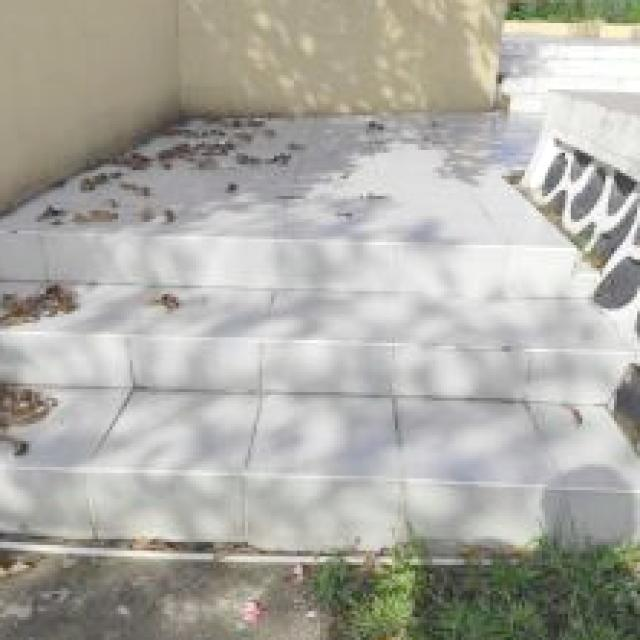upstair: (1, 226, 640, 575)
